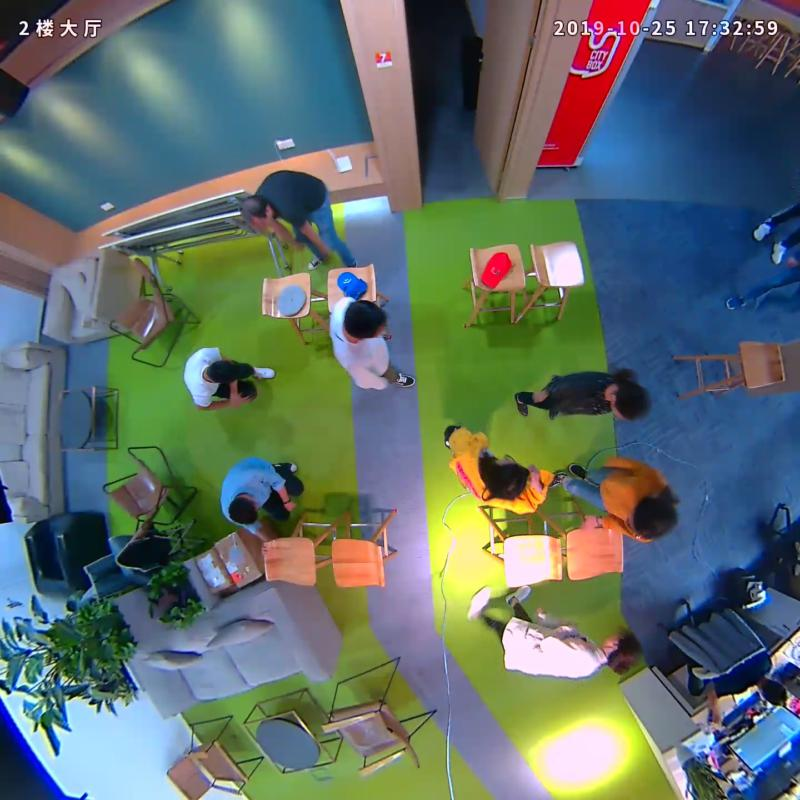head: (601, 374, 653, 430), (593, 628, 642, 677), (336, 298, 389, 343), (629, 491, 674, 544), (485, 454, 529, 504), (203, 353, 249, 394), (232, 190, 273, 232), (220, 491, 260, 529)
